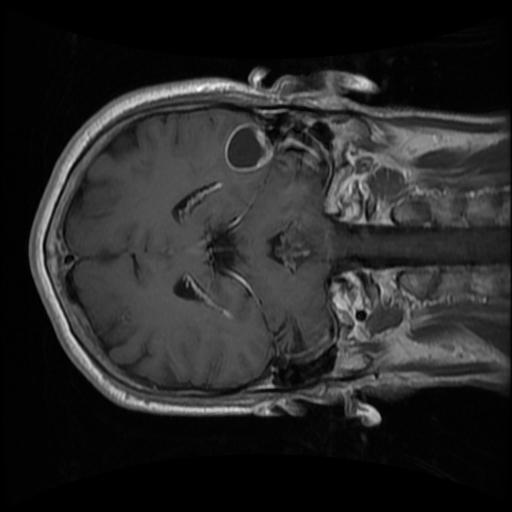glioma: (224, 123, 273, 174)
